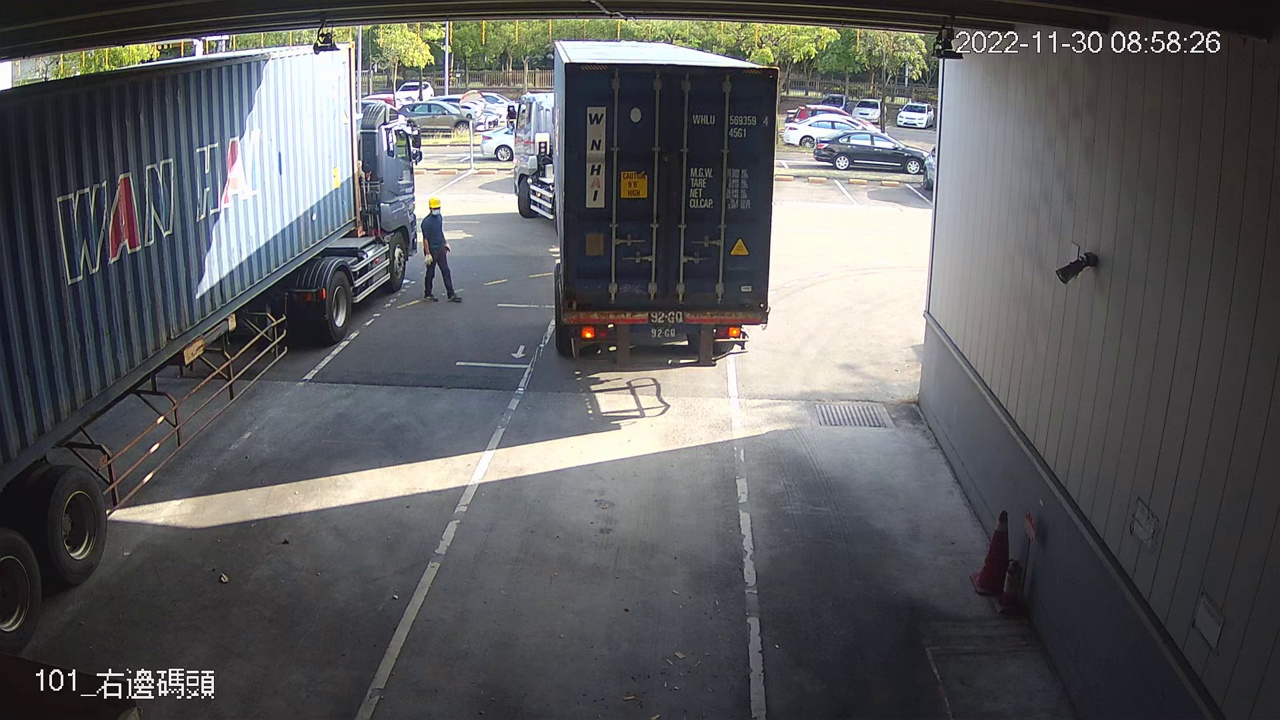container: (690, 110, 773, 143)
